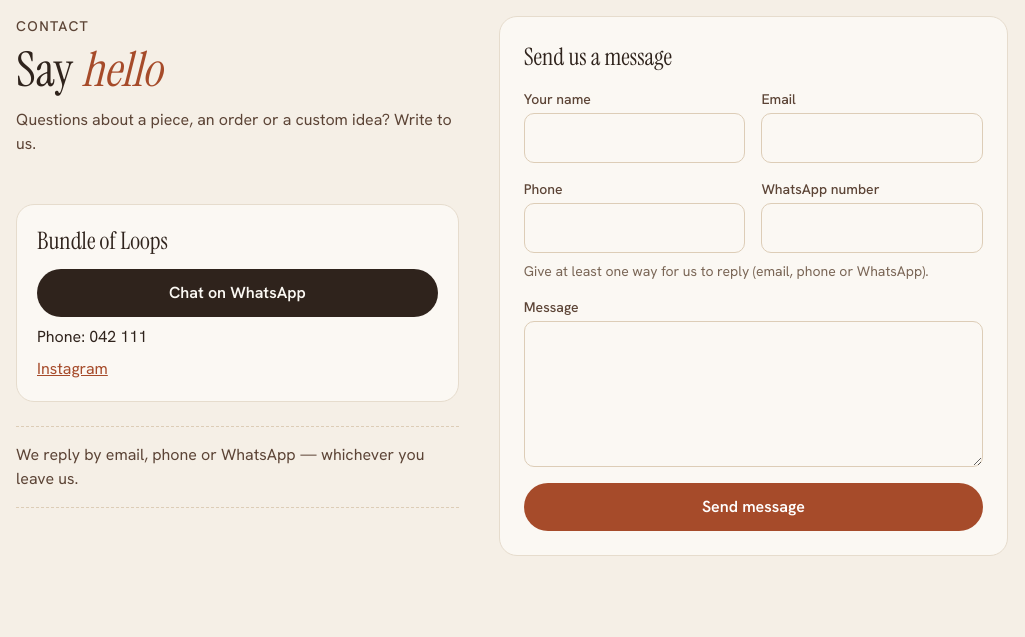
Test case: explains a 429 response
Type "Sara" into the field labelled "Your name" at (635, 138), box [524, 113, 745, 163]
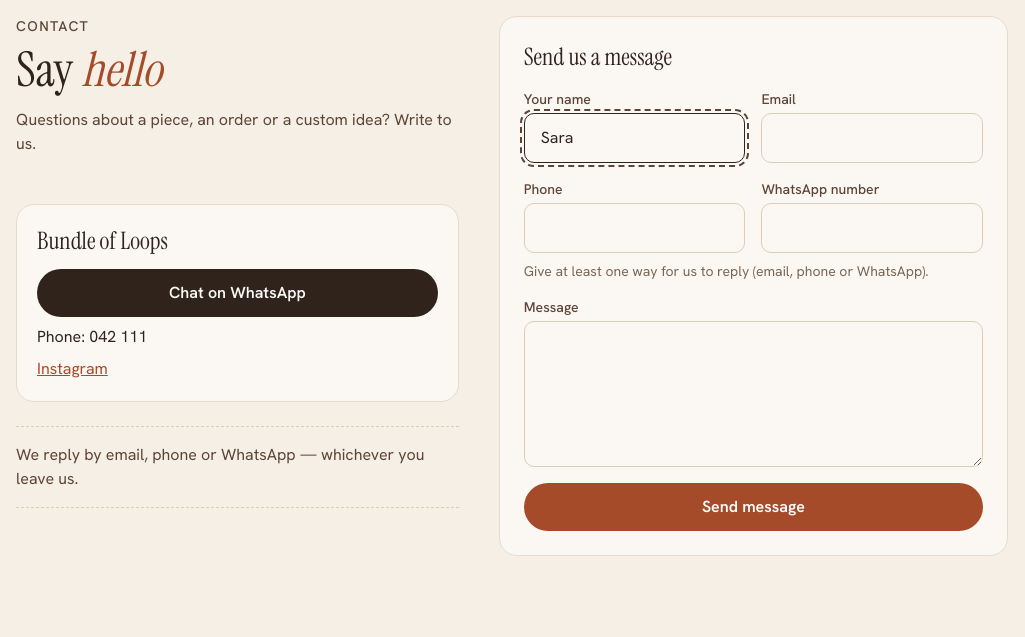
Type "03001234567" into the field labelled "Phone" at (635, 228), box [524, 203, 745, 253]
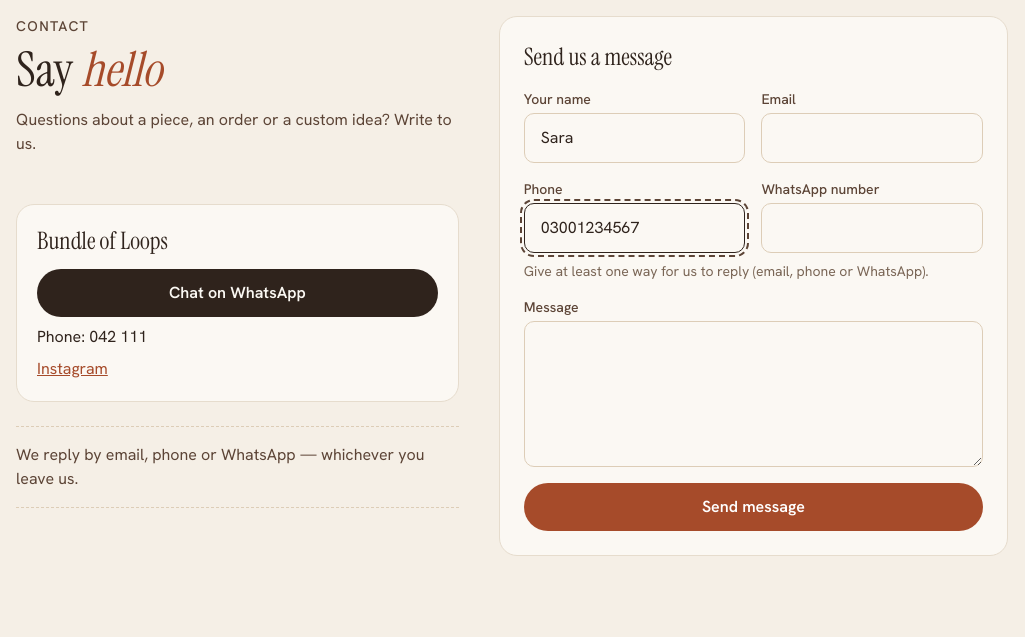
Type "Hello" into the text box labelled "Message" at (753, 394), box [524, 321, 983, 467]
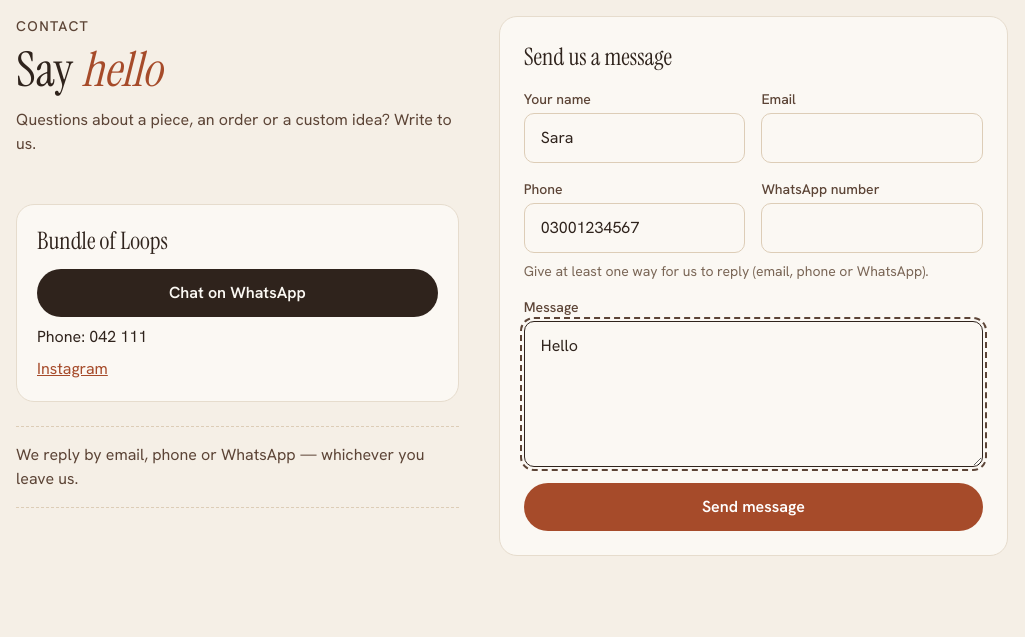
Click the button "Send message" at (753, 507), box [524, 483, 983, 531]
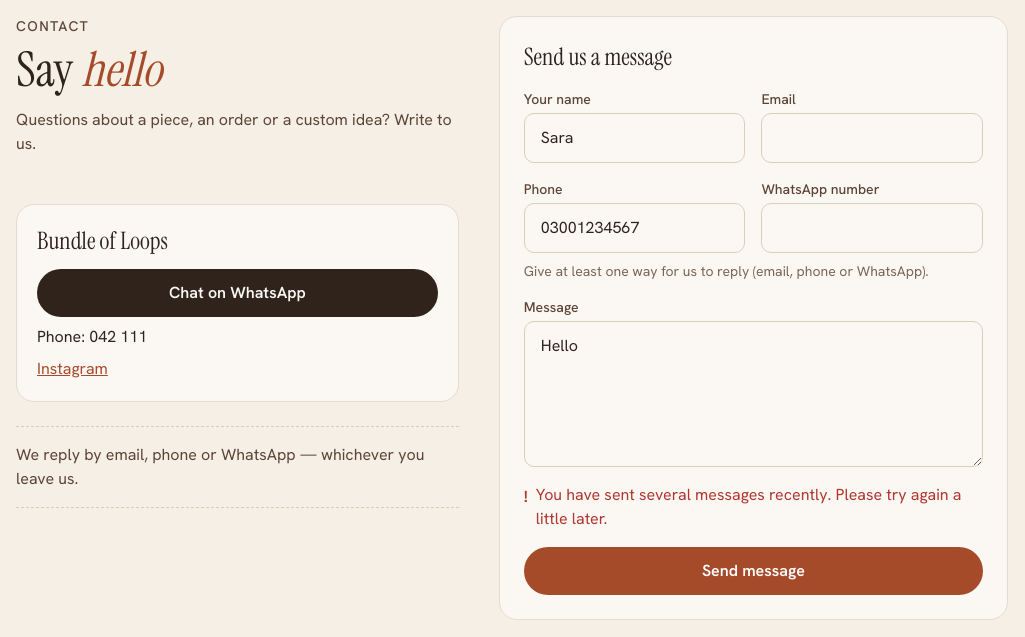
Expected: the message shows "several messages recently", [536, 484, 961, 529]
